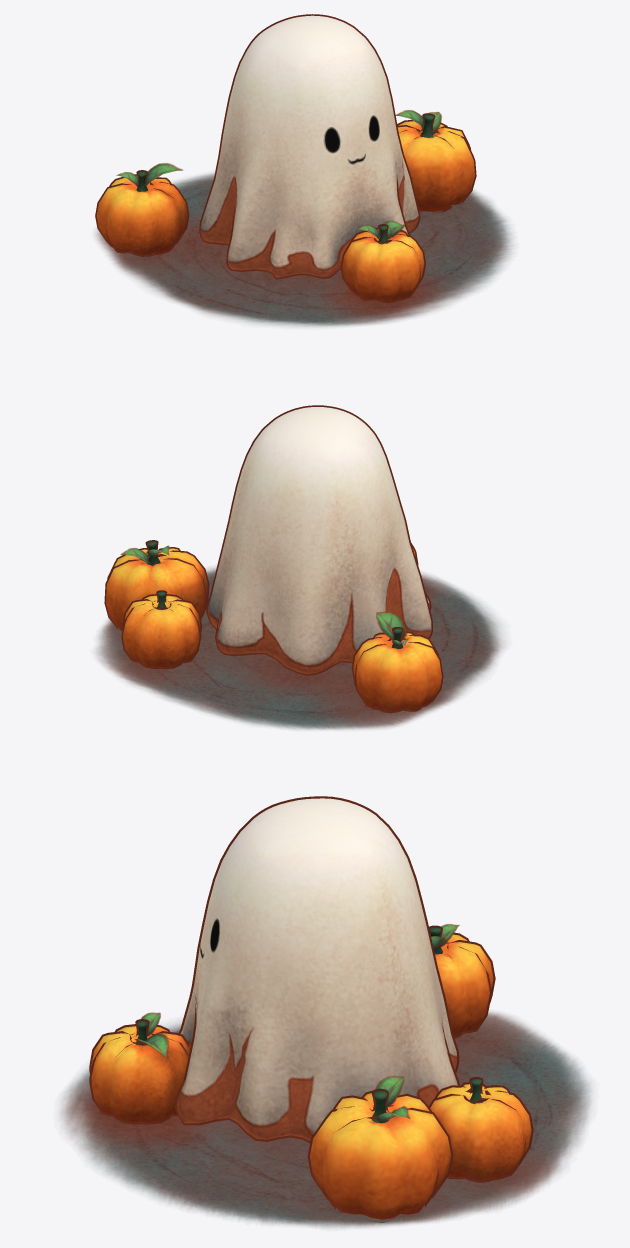
Rendered from cute_ghost-v1.glb.
3 views of the same model, one above another, from view 1: azimuth 30°, elevation 25°; view 2: azimuth 150°, elevation 25°; view 3: azimuth 270°, elevation 25° (orthographic). The views are drawn at different scales.
Visible parts, largest first — view 1: Ghost, Ground, Ghost.002, Ghost.001; view 2: Ghost, Ground, Ghost.002, Ghost.001; view 3: Ghost, Ground, Ghost.002, Ghost.001.
Boxes of the visible parts, x1,y1,x2,y2 form: Ghost: (96,15,474,301); Ground: (95,173,513,326); Ghost.002: (95,14,476,303); Ghost.001: (116,110,441,239); Ghost: (106,407,441,711); Ground: (96,567,504,729); Ghost.002: (104,405,443,713); Ghost.001: (120,545,408,645); Ghost: (91,798,531,1219); Ground: (60,1011,591,1228); Ghost.002: (89,796,533,1222); Ghost.001: (134,924,459,1121).
Size of the model in its own units: 5.28 by 3.13 by 5.47.
Materials: 3 (2 with a texture image).
